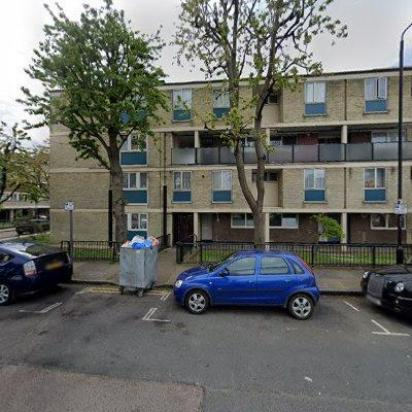stationary-car-onstreet: (171, 250, 317, 318), (0, 240, 76, 306), (360, 250, 412, 328)
